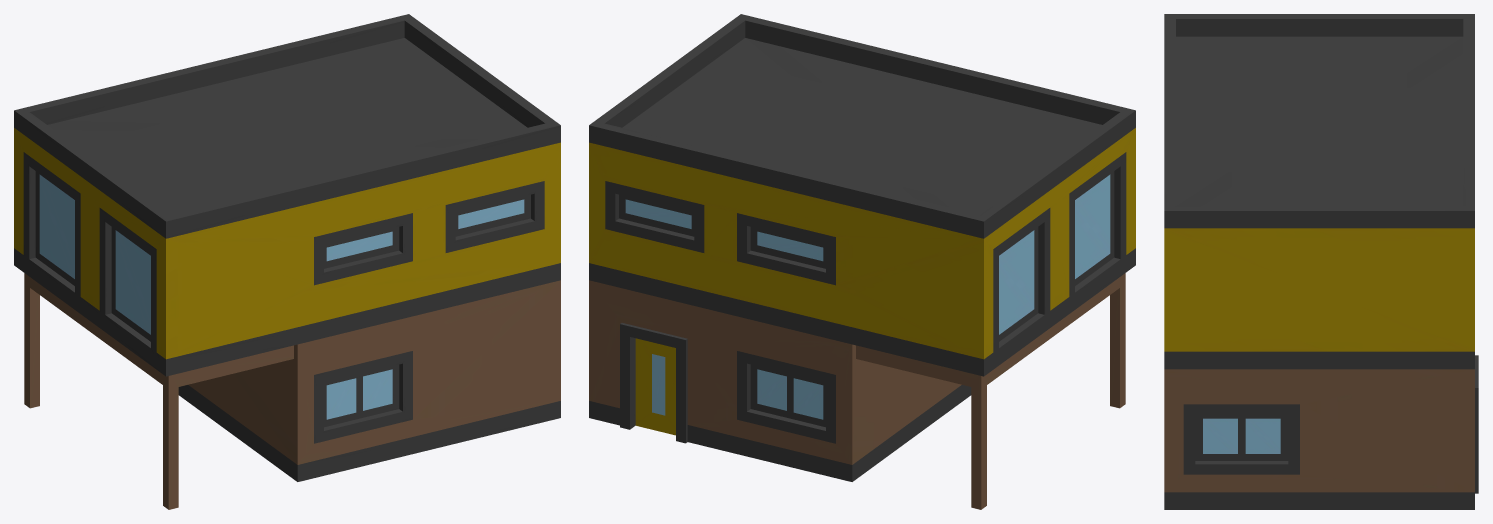
The model's file is house_type20.fbx.
The picture shows the model from 3 angles, left to right: view 1: azimuth 30°, elevation 25°; view 2: azimuth 150°, elevation 25°; view 3: azimuth 270°, elevation 25°; orthographic projection. The views are drawn at different scales.
Visible parts, largest first — view 1: house_type20; view 2: house_type20; view 3: house_type20.
Part boxes in pixels (x1,y1,x2,y2): house_type20: (14, 14, 560, 509); house_type20: (589, 14, 1135, 509); house_type20: (1164, 14, 1478, 509).
Bounding box in the file's own units: 12 × 8.5 × 8.1.
1 material, 1 textured.
